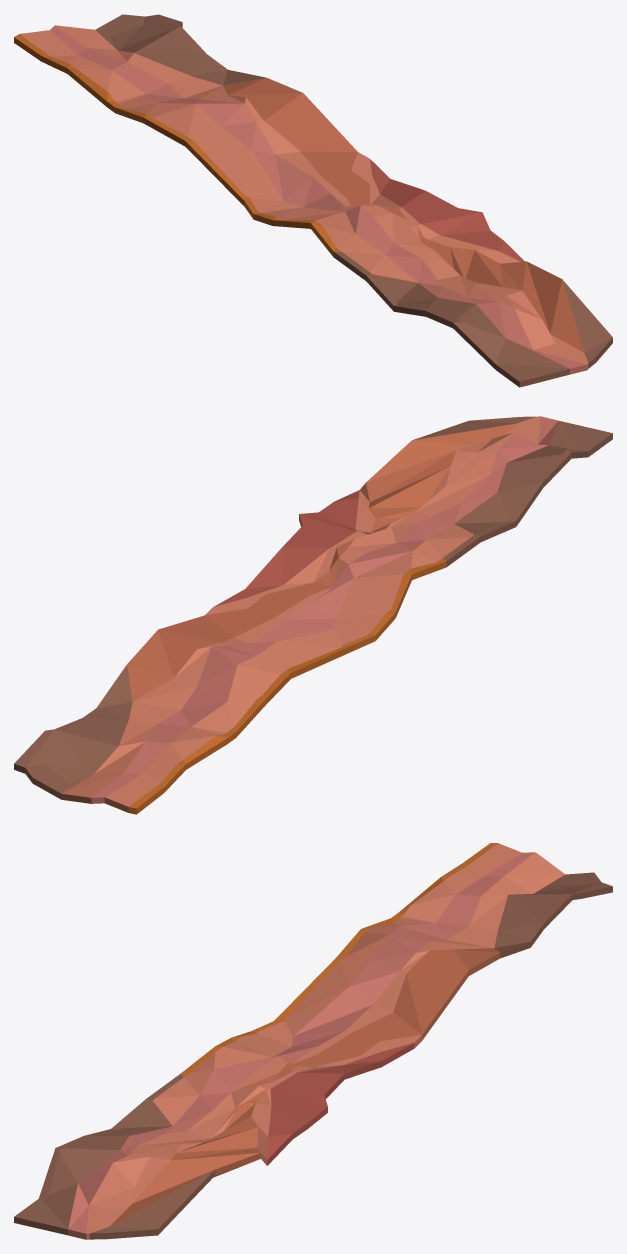
The model's file is BaconSlightlyBurnt.fbx.
3 renders of one model, top to bottom at view 1: azimuth 30°, elevation 25°; view 2: azimuth 150°, elevation 25°; view 3: azimuth 330°, elevation 25°, orthographic. The views are drawn at different scales.
Visible parts, largest first — view 1: BaconSlightlyBurnt; view 2: BaconSlightlyBurnt; view 3: BaconSlightlyBurnt.
Part boxes in pixels (x1,y1,x2,y2): BaconSlightlyBurnt: (14,14,612,387); BaconSlightlyBurnt: (14,416,612,814); BaconSlightlyBurnt: (14,843,612,1239).
Bounding box in the file's own units: 130 × 32.26 × 694.
